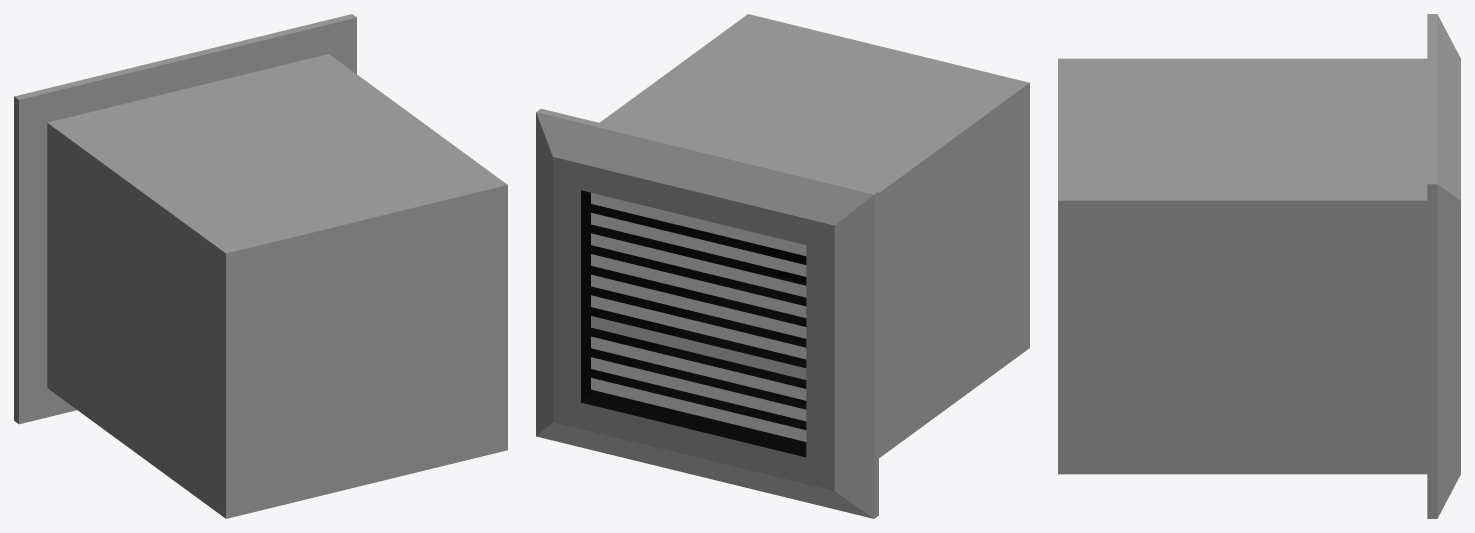
File: closed_vent.gltf
3 renders of one model, left to right at view 1: azimuth 30°, elevation 25°; view 2: azimuth 150°, elevation 25°; view 3: azimuth 270°, elevation 25°, orthographic. The views are drawn at different scales.
Parts seen in each view (by area): view 1: cuboid; view 2: cuboid, plane (×10); view 3: cuboid.
Part boxes in pixels (left/top/right/bottom): cuboid: left=14, top=14, right=507, bottom=518; cuboid: left=536, top=14, right=1029, bottom=518; plane (×10): left=591, top=192, right=806, bottom=441; cuboid: left=1058, top=14, right=1460, bottom=518.
Bounding box in the file's own units: 0.75 × 0.6875 × 0.75.
1 material, 1 textured.
